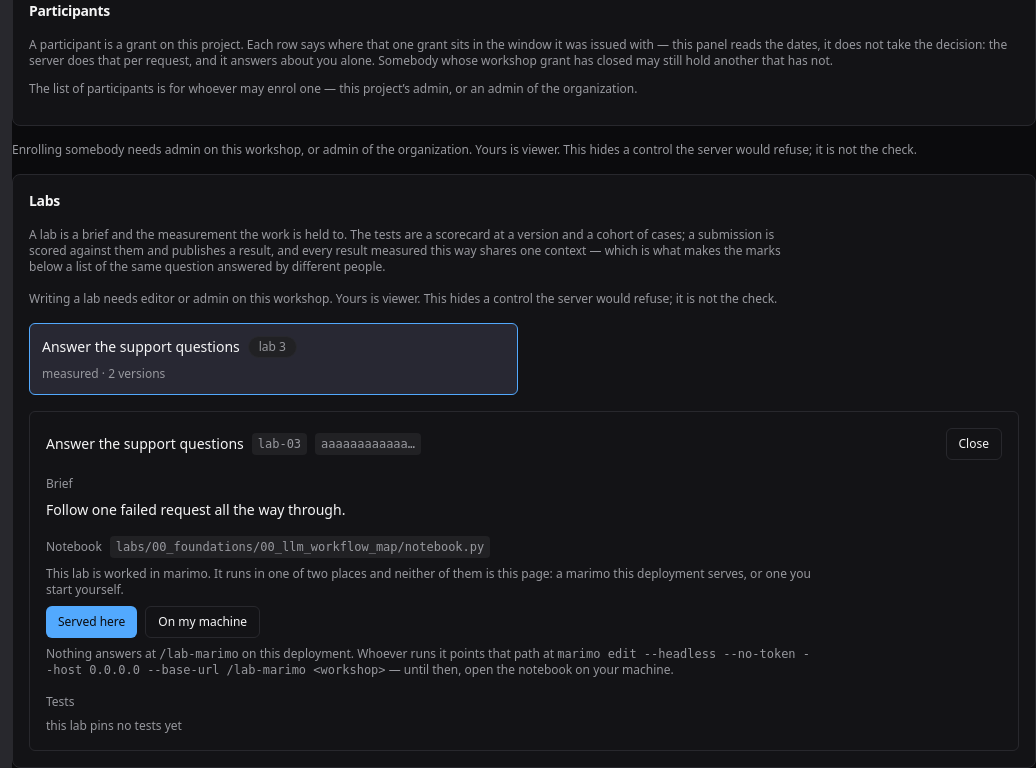
Test case: offers a workshop notebook in two places, and takes no address from the lab
(page scrolled)
Expected: the heading "Notebook" is shown, [46,539,102,555]
Expected: the text "Nothing answers at" is shown, [46,645,159,662]
Click the radio button labelled "On my machine": (203, 622) [145,606,260,638]
(page scrolled)
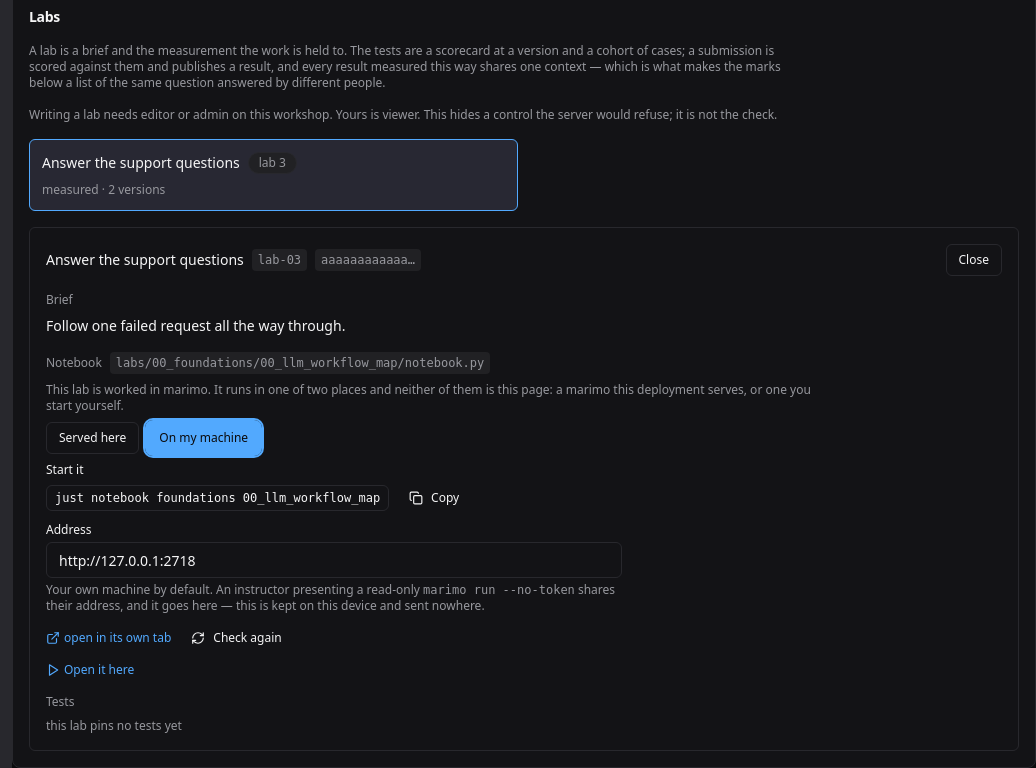
Expected: the text "just notebook foundations 00_llm_workflow_map" is shown, [46,485,389,511]
Expected: the field labelled "Address" holds "http://127.0.0.1:2718", [46,542,622,578]
